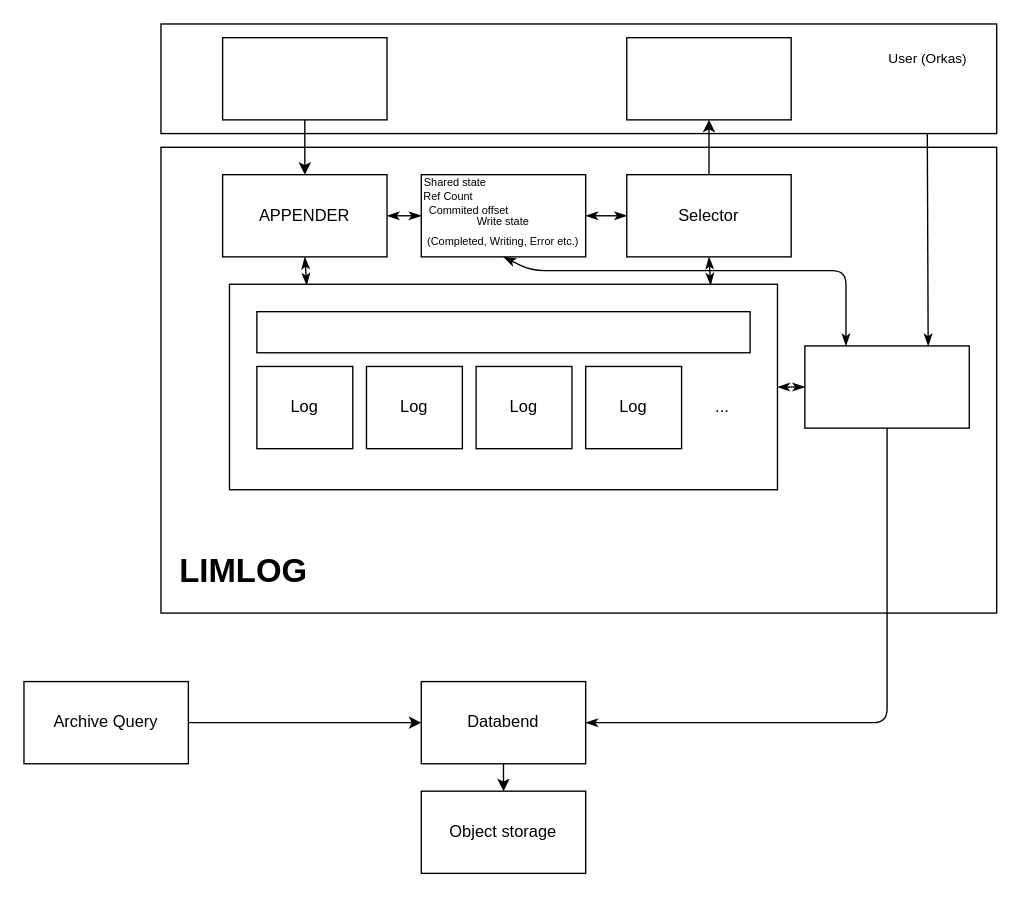
Image size: 1021x897. Some labels were removed from this diagram. The shapes that lost their labels are listed below. From the top down, each one's centre as x and y in pixels, then its label:
the point at 304,78: Producer
the point at 708,78: Consumer
the point at 503,331: UUID Index
the point at 886,386: LIMLOG GC
